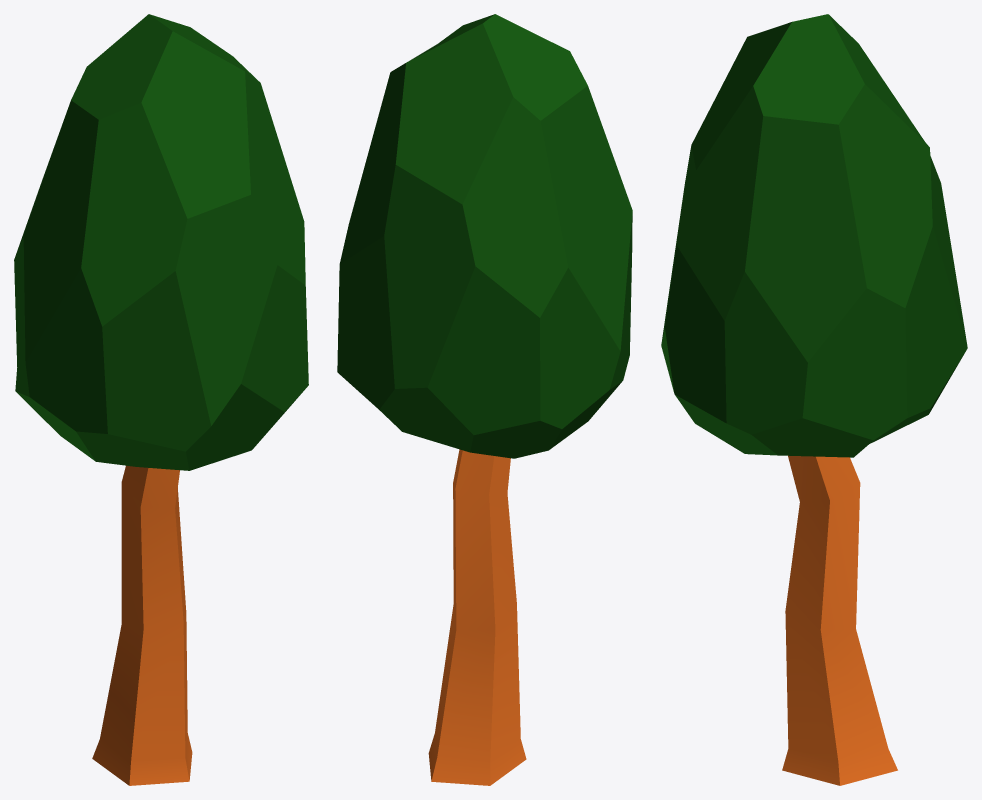
The model's file is Tree1.FBX.
The picture shows the model from 3 angles, left to right: view 1: azimuth 30°, elevation 25°; view 2: azimuth 150°, elevation 25°; view 3: azimuth 270°, elevation 25°; orthographic projection. The views are drawn at different scales.
Parts seen in each view (by area): view 1: Hedra001, Cylinder001; view 2: Hedra001, Cylinder001; view 3: Hedra001, Cylinder001.
Boxes of the visible parts, <box> form: Hedra001: <box>14,14,308,470</box>; Cylinder001: <box>92,465,192,785</box>; Hedra001: <box>337,14,632,458</box>; Cylinder001: <box>428,449,526,785</box>; Hedra001: <box>661,14,967,457</box>; Cylinder001: <box>782,455,897,785</box>.
Size of the model in its own units: 570 by 1509 by 561.
